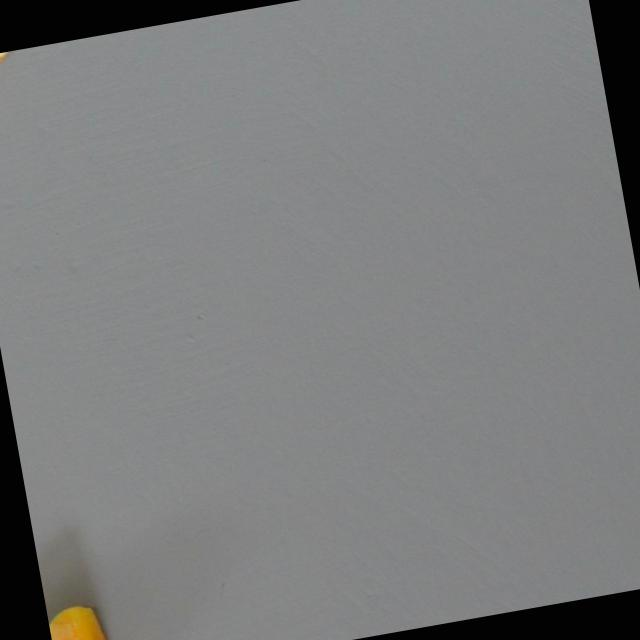dañado: (45, 590, 117, 640)
pelicula: (0, 46, 35, 77)
